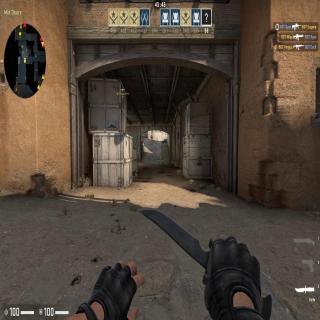CT-Body: (150, 135, 153, 140)
CT-Head: (150, 135, 152, 136)
